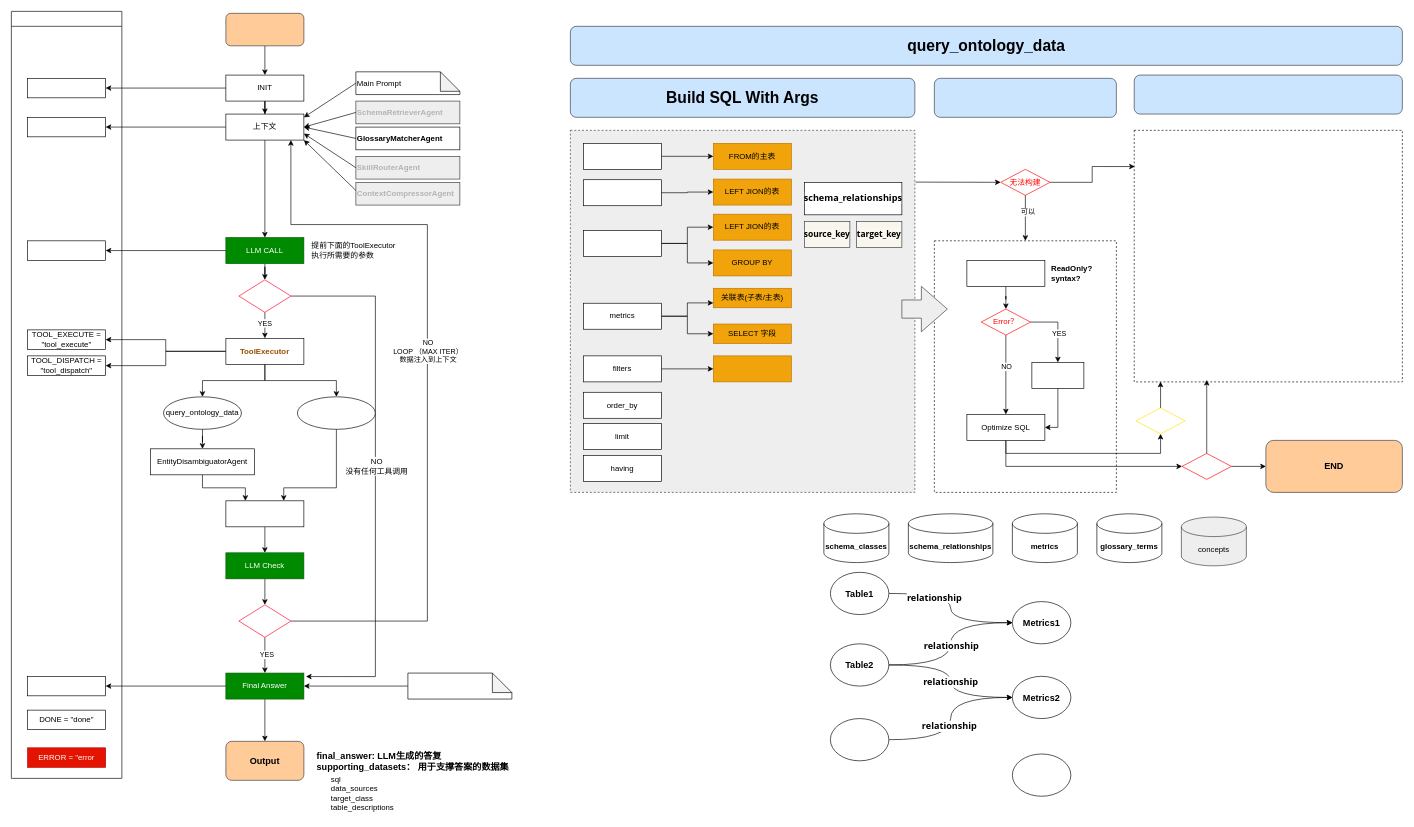
The diagram is 1414 pixels wide and 827 high, and some of its shapes have lost their labels. The box of each missing label's shape, as (x1, y1, x2, y2) in pixels:
Agent Sate: (11, 11, 122, 778)
CONTEXT_PREP = "context_prep": (27, 117, 106, 137)
Data: (225, 500, 304, 527)
dimensions: (583, 230, 661, 256)
Error?: (1181, 453, 1231, 479)
Final Answer Prompt: (407, 672, 512, 699)
FINAL_STREAM = "final_stream": (27, 676, 106, 696)
Harness SQL: (934, 78, 1116, 117)
HAS TOOL: (238, 279, 291, 312)
INIT = "init": (27, 78, 106, 98)
join_classes: (583, 179, 661, 206)
LLM_CALL = "llm_call": (27, 240, 106, 260)
Metrics3: (1012, 753, 1071, 796)
No Data?: (1135, 407, 1185, 434)
Ontology Auto Optimizer: (1134, 74, 1402, 114)
python_analyze: (297, 396, 375, 429)
Qestion: (225, 13, 304, 46)
Repair SQL: (1031, 362, 1084, 388)
Table3: (830, 718, 889, 761)
target_class: (583, 143, 661, 169)
Validate SQL: (966, 260, 1045, 286)
WHERE 条件: (713, 355, 791, 382)
是否满足: (238, 604, 291, 637)
